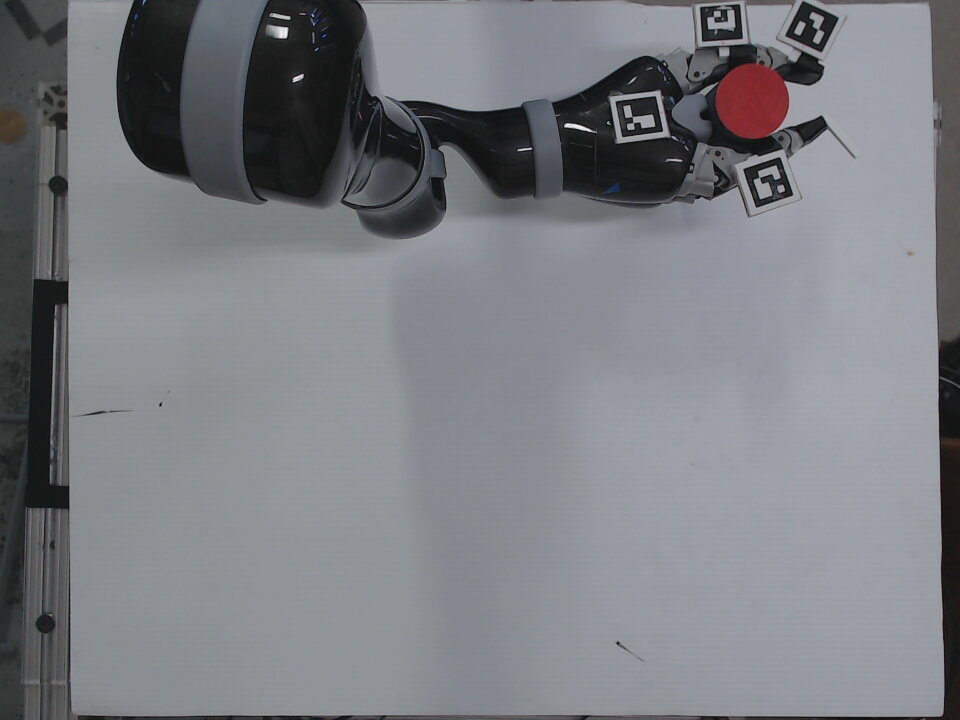cylinder: (700, 60, 793, 144)
